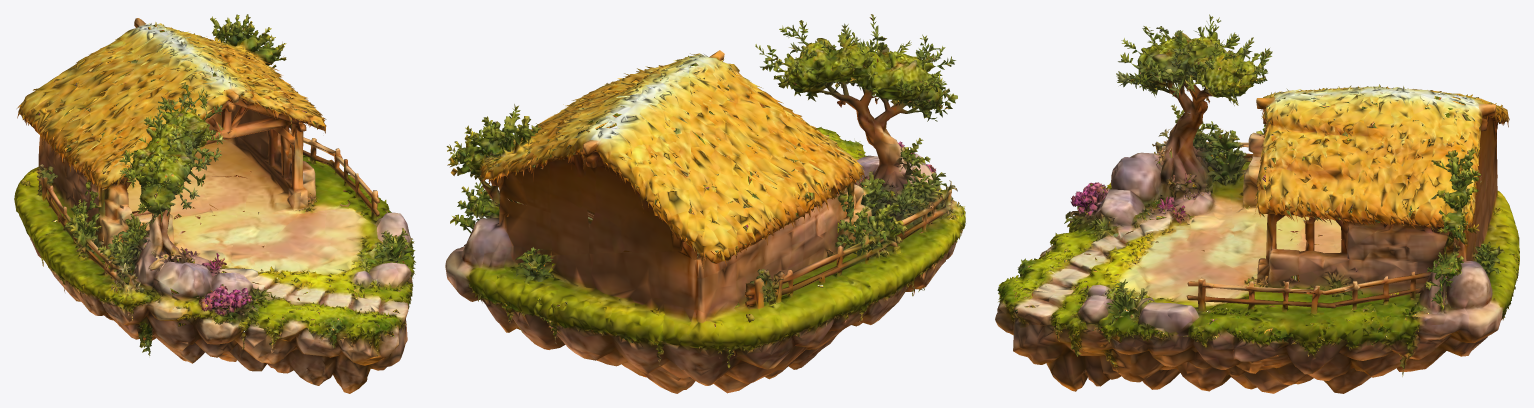
Rendered from week4.glb.
The picture shows the model from 3 angles, left to right: view 1: azimuth 30°, elevation 25°; view 2: azimuth 150°, elevation 25°; view 3: azimuth 270°, elevation 25°; orthographic projection. The views are drawn at different scales.
Visible parts, largest first — view 1: tripo_node_1ef6a205-fa36-4e29-8c75-ef9606736f2d; view 2: tripo_node_1ef6a205-fa36-4e29-8c75-ef9606736f2d; view 3: tripo_node_1ef6a205-fa36-4e29-8c75-ef9606736f2d.
Part boxes in pixels (box(x1,y1,x2,y2)): tripo_node_1ef6a205-fa36-4e29-8c75-ef9606736f2d: box(14, 14, 415, 393); tripo_node_1ef6a205-fa36-4e29-8c75-ef9606736f2d: box(445, 14, 965, 393); tripo_node_1ef6a205-fa36-4e29-8c75-ef9606736f2d: box(995, 14, 1519, 393).
Bounding box in the file's own units: 0.7843 × 0.6585 × 0.9989.
1 material, 1 textured.
